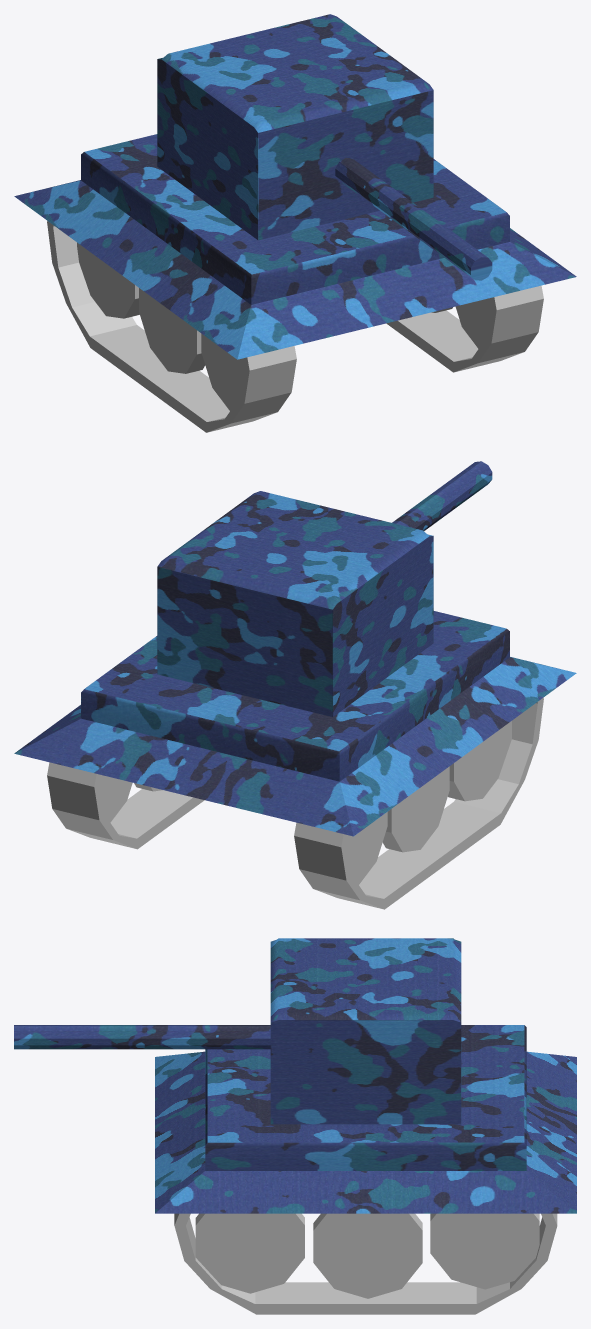
Rendered from tanquecito.obj.
The picture shows the model from 3 angles, top to bottom: view 1: azimuth 30°, elevation 25°; view 2: azimuth 150°, elevation 25°; view 3: azimuth 270°, elevation 25°; orthographic projection. The views are drawn at different scales.
Parts seen in each view (by area): view 1: pCylinder36; view 2: pCylinder36; view 3: pCylinder36.
Boxes of the visible parts, x1,y1,x2,y2 form: pCylinder36: (14,14,576,432); pCylinder36: (14,461,576,909); pCylinder36: (14,938,576,1314).
Size of the model in its own units: 5.98 by 4.83 by 9.09.
